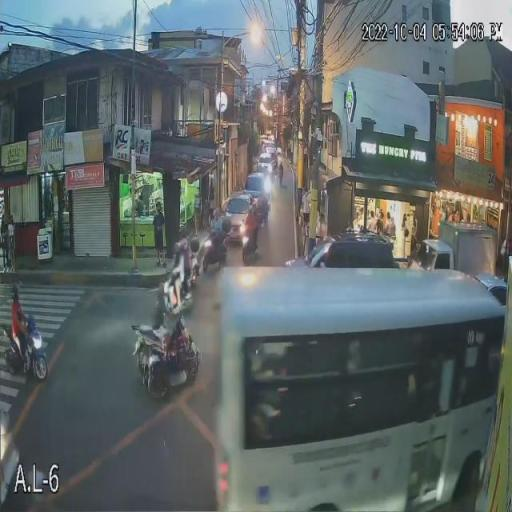helmet: (10, 283, 20, 302)
motorcycle: (2, 322, 50, 380)
rider: (11, 302, 28, 364)
